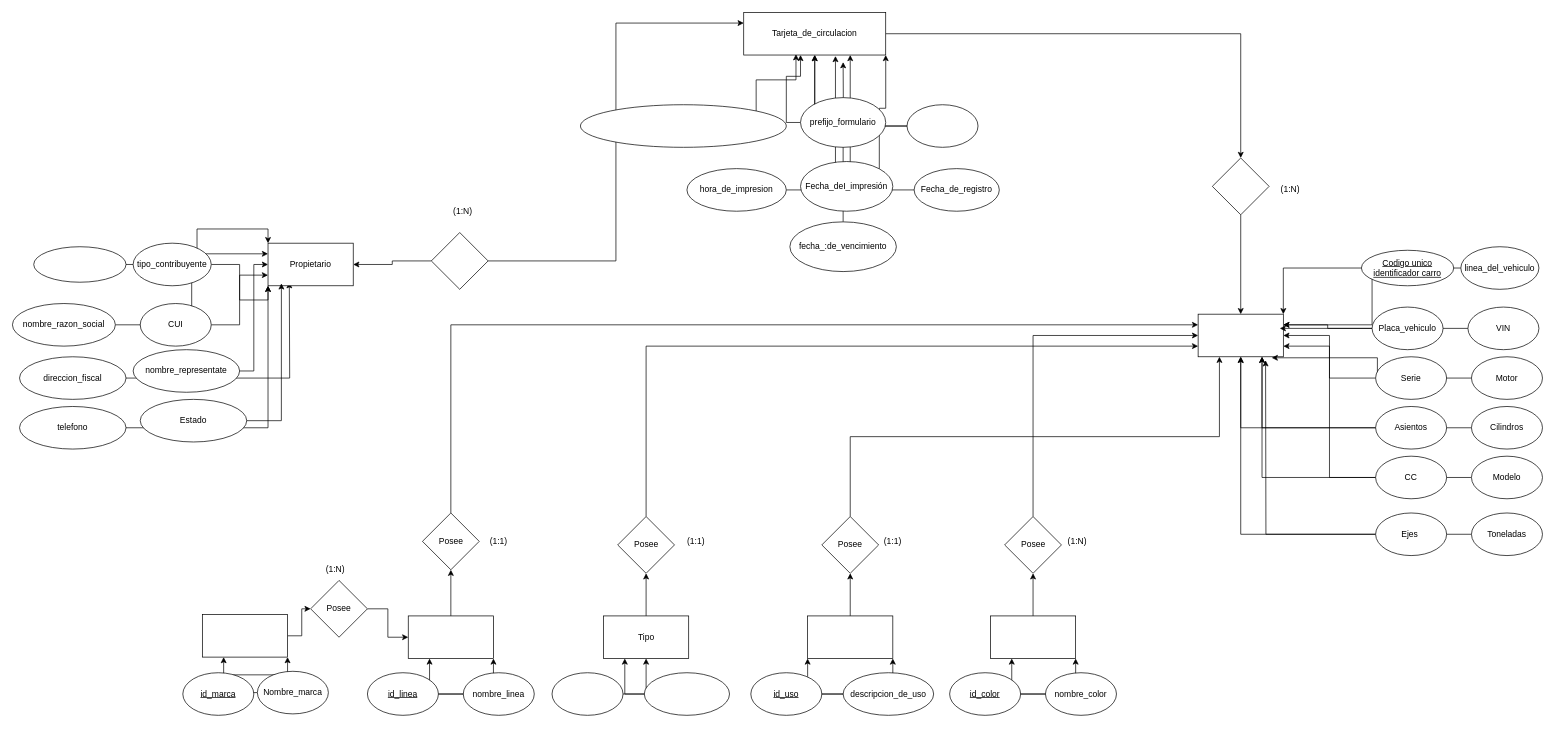
Image size: 1555x732. Some labels were removed from this diagram. The shapes that lost their labels are listed below. From the top down, each one's centre as x and y in pixels, then its label:
point 683,125: codigo_unico_de_tarjeta_de_circulacion
point 942,125: Usuario
point 1240,186: Registra
point 79,264: NIT
point 459,260: Posse
point 1240,335: Vehiculo
point 245,635: Marca
point 450,637: Linea_vehiculo
point 850,637: Uso
point 1033,637: Color
point 587,693: id_tipo
point 687,693: descripcion_de_tipo
